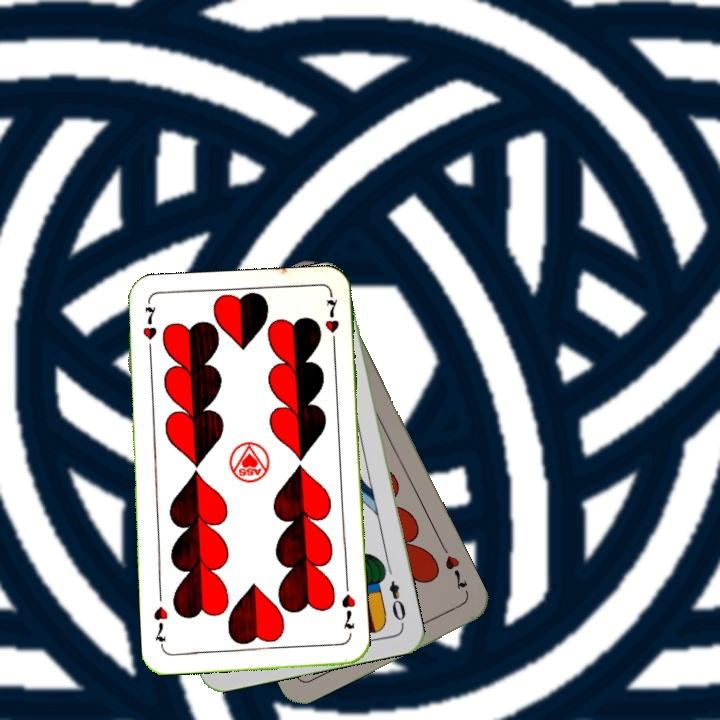EO: (385, 576, 409, 628)
H7: (138, 302, 160, 359), (441, 551, 470, 593), (337, 590, 358, 632)
